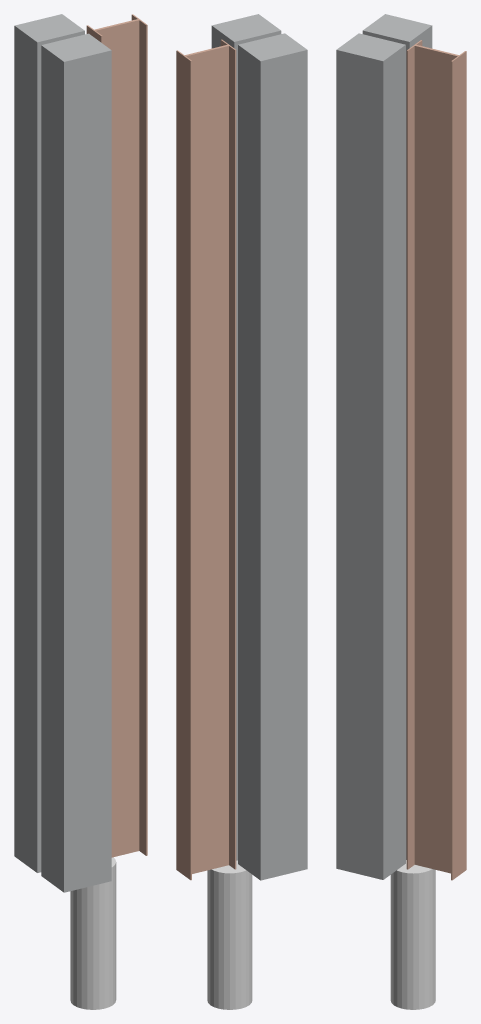
The model's file is double double.glb.
3 renders of one model, left to right at view 1: azimuth 30°, elevation 25°; view 2: azimuth 210°, elevation 25°; view 3: azimuth 330°, elevation 25°, orthographic.
Parts seen in each view (by area): view 1: imagetostl_mesh33, imagetostl_mesh45, imagetostl_mesh25, imagetostl_mesh31, imagetostl_mesh46, imagetostl_mesh38, imagetostl_mesh43, imagetostl_mesh26, imagetostl_mesh28, imagetostl_mesh22, imagetostl_mesh19, imagetostl_mesh20 (+7 smaller); view 2: imagetostl_mesh32, imagetostl_mesh42, imagetostl_mesh27, imagetostl_mesh36, imagetostl_mesh29, imagetostl_mesh30, imagetostl_mesh34, imagetostl_mesh39, imagetostl_mesh28, imagetostl_mesh26, imagetostl_mesh10, imagetostl_mesh12 (+8 smaller); view 3: imagetostl_mesh33, imagetostl_mesh45, imagetostl_mesh41, imagetostl_mesh36, imagetostl_mesh37, imagetostl_mesh47, imagetostl_mesh43, imagetostl_mesh26, imagetostl_mesh28, imagetostl_mesh38, imagetostl_mesh24, imagetostl_mesh17 (+8 smaller).
Boxes of the visible parts, left/top/right/bottom form: imagetostl_mesh33: left=64, top=50, right=111, bottom=892; imagetostl_mesh45: left=96, top=20, right=139, bottom=857; imagetostl_mesh25: left=14, top=26, right=37, bottom=872; imagetostl_mesh31: left=41, top=45, right=63, bottom=892; imagetostl_mesh46: left=139, top=20, right=146, bottom=855; imagetostl_mesh38: left=37, top=31, right=84, bottom=872; imagetostl_mesh43: left=146, top=25, right=147, bottom=855; imagetostl_mesh26: left=41, top=33, right=111, bottom=61; imagetostl_mesh28: left=15, top=14, right=84, bottom=42; imagetostl_mesh22: left=93, top=884, right=99, bottom=1009; imagetostl_mesh19: left=87, top=886, right=93, bottom=1009; imagetostl_mesh20: left=81, top=887, right=87, bottom=1009; imagetostl_mesh32: left=260, top=50, right=307, bottom=880; imagetostl_mesh42: left=186, top=46, right=228, bottom=873; imagetostl_mesh27: left=238, top=45, right=260, bottom=880; imagetostl_mesh36: left=176, top=51, right=190, bottom=879; imagetostl_mesh29: left=229, top=46, right=234, bottom=869; imagetostl_mesh30: left=234, top=30, right=281, bottom=860; imagetostl_mesh34: left=190, top=61, right=191, bottom=880; imagetostl_mesh39: left=235, top=50, right=236, bottom=869; imagetostl_mesh28: left=238, top=33, right=307, bottom=61; imagetostl_mesh26: left=212, top=14, right=280, bottom=41; imagetostl_mesh10: left=235, top=872, right=241, bottom=1009; imagetostl_mesh12: left=218, top=872, right=223, bottom=1009; imagetostl_mesh33: left=336, top=50, right=383, bottom=879; imagetostl_mesh45: left=414, top=46, right=457, bottom=873; imagetostl_mesh41: left=383, top=45, right=405, bottom=879; imagetostl_mesh36: left=452, top=51, right=466, bottom=880; imagetostl_mesh37: left=408, top=46, right=414, bottom=869; imagetostl_mesh47: left=406, top=50, right=407, bottom=869; imagetostl_mesh43: left=451, top=61, right=452, bottom=880; imagetostl_mesh26: left=336, top=33, right=405, bottom=60; imagetostl_mesh28: left=363, top=14, right=431, bottom=41; imagetostl_mesh38: left=362, top=30, right=409, bottom=859; imagetostl_mesh24: left=407, top=873, right=413, bottom=1009; imagetostl_mesh17: left=419, top=872, right=424, bottom=1009.
Bounding box in the file's own units: 0.5984 × 5.51 × 0.5118.
